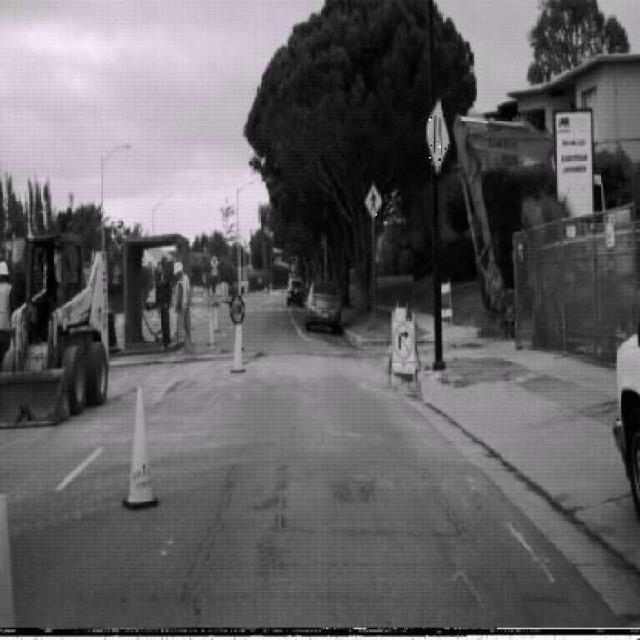laneEnds: (426, 99, 451, 172)
pedestrianCrossing: (365, 183, 383, 220)
